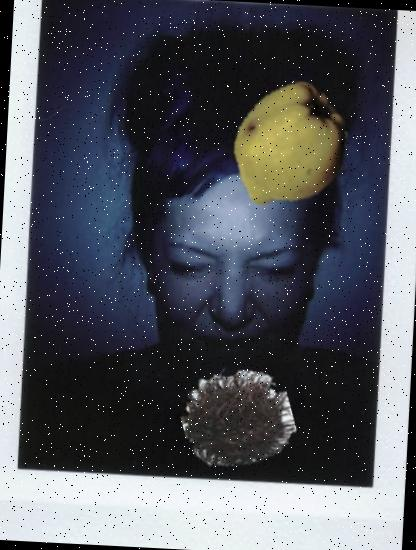Quince: (220, 80, 358, 217)
Rambutan: (180, 358, 294, 473)
